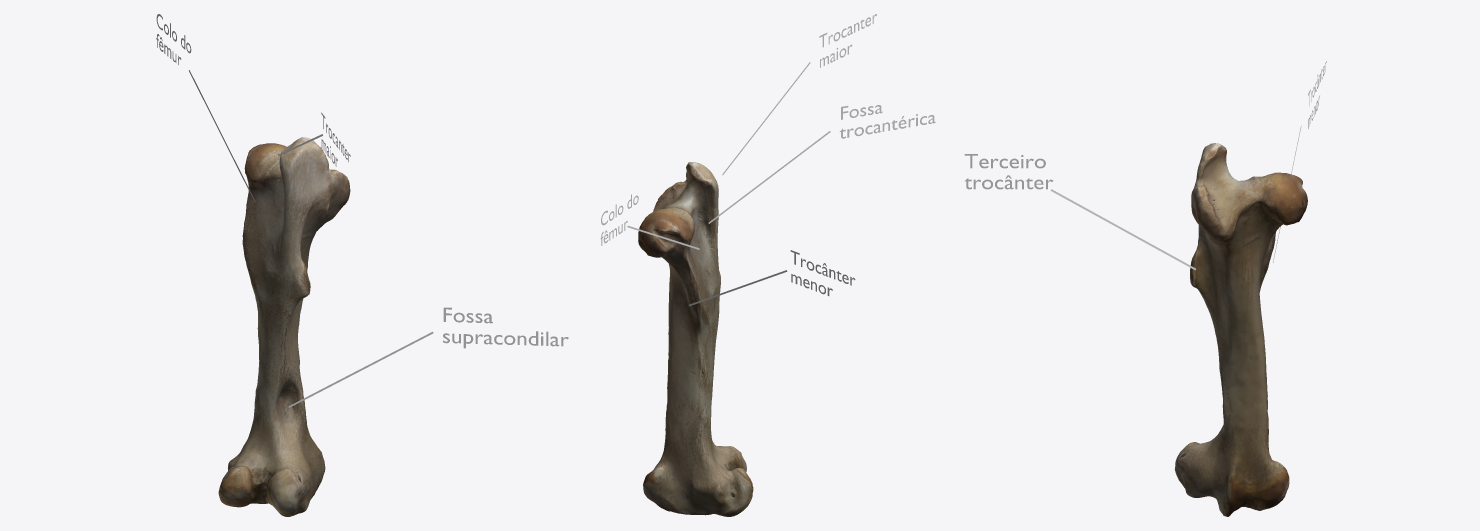
The model's file is Femur-editado_modelo-2.0.1.glb.
The picture shows the model from 3 angles, left to right: view 1: azimuth 30°, elevation 25°; view 2: azimuth 150°, elevation 25°; view 3: azimuth 270°, elevation 25°; orthographic projection. The views are drawn at different scales.
Parts seen in each view (by area): view 1: Mesh_0, Texto.005; view 2: Mesh_0, Texto.009, Texto.011, Texto.007, Texto.003; view 3: Mesh_0, Texto.001.
Boxes of the visible parts, x1=… form: Mesh_0: x1=218, y1=137, x2=350, y2=516; Texto.005: x1=443, y1=307, x2=568, y2=348; Mesh_0: x1=638, y1=162, x2=753, y2=516; Texto.009: x1=840, y1=105, x2=935, y2=138; Texto.011: x1=790, y1=250, x2=855, y2=295; Texto.007: x1=819, y1=14, x2=876, y2=67; Texto.003: x1=600, y1=194, x2=638, y2=245; Mesh_0: x1=1174, y1=143, x2=1307, y2=516; Texto.001: x1=964, y1=154, x2=1053, y2=189.
Bounding box in the file's own units: 2.26 × 2.42 × 2.35.
Materials: 1 (1 with a texture image).
